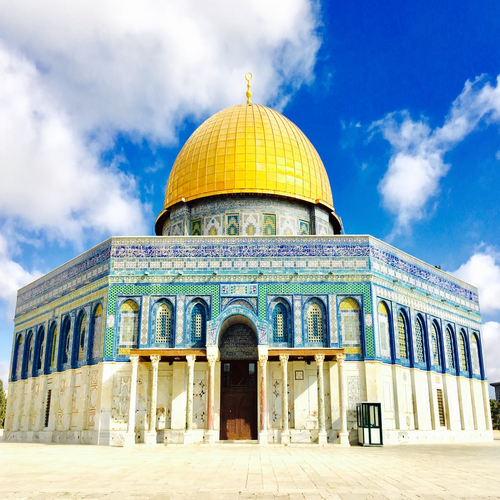Mosque: (10, 71, 496, 457)
